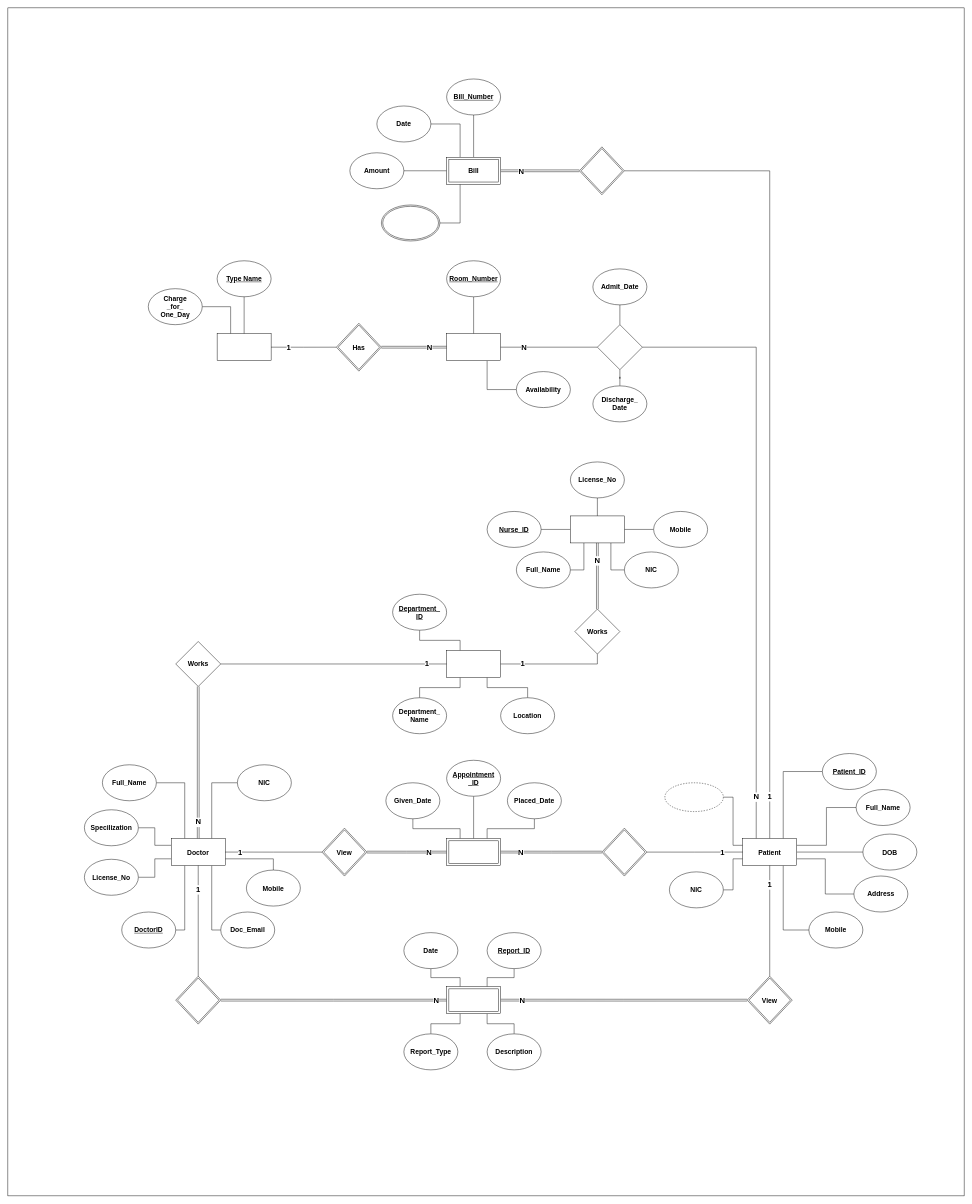
This 972x1204 diagram has some shape labels left out. Here are the shapes that lost their labels. From the top down, the centre of each, then its label:
the point at 601,170: Pays
the point at 410,223: Payment_Type
the point at 244,347: Room_Type
the point at 473,347: Room
the point at 619,347: Choose
the point at 597,529: Nurse
the point at 473,663: Department
the point at 693,797: Age
the point at 473,852: Appointment
the point at 624,852: Place
the point at 198,1000: Update
the point at 473,1000: Report
